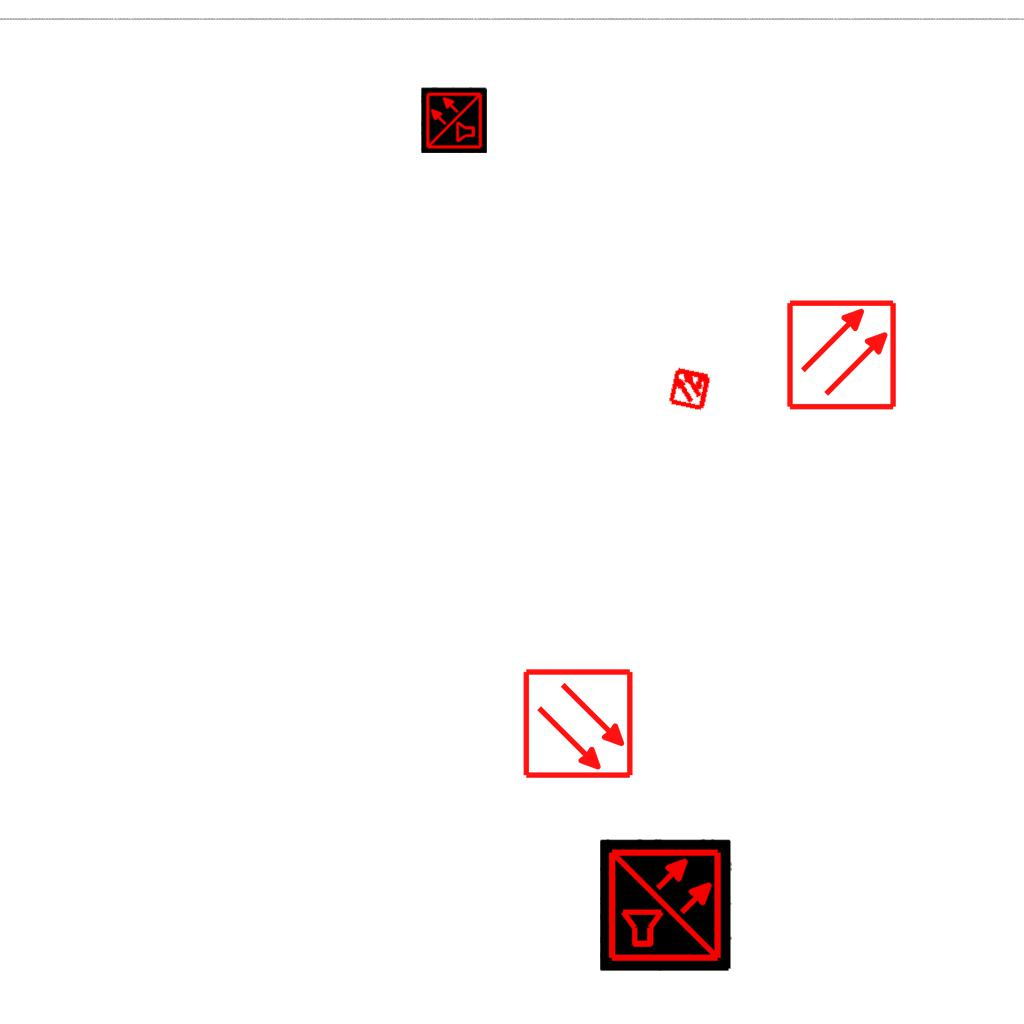OKW_Multisensormelder_(Kombination_optischer_Rauch-Kahlenmonoxid_Waerme-Melder): (600, 839, 732, 971), (421, 87, 487, 153)
OT_Multisensormelder_(Kombination_RMO_WMD): (656, 354, 724, 422)
RMO_Rauchmelder_optischer: (522, 667, 635, 780), (785, 298, 898, 411)
